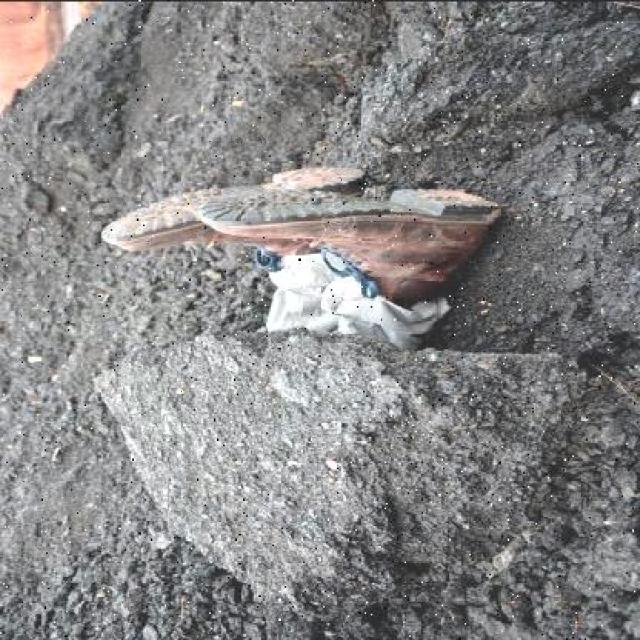shoes: (209, 186, 496, 291), (115, 160, 360, 251)
